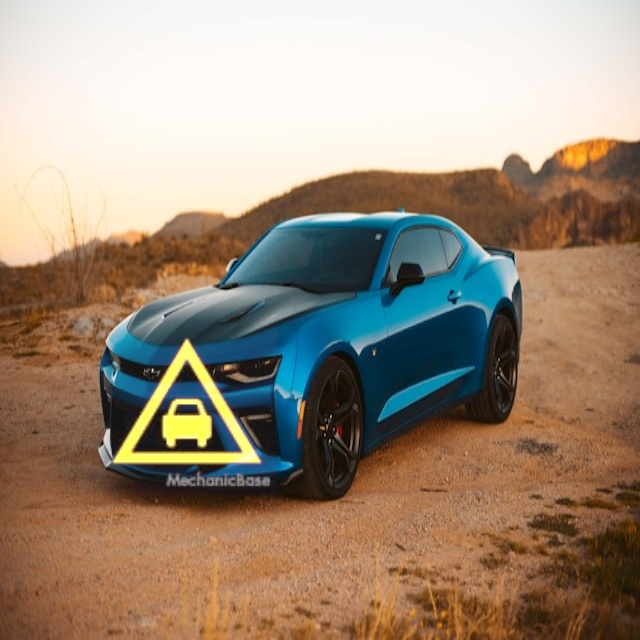symbol: (96, 314, 277, 495)
